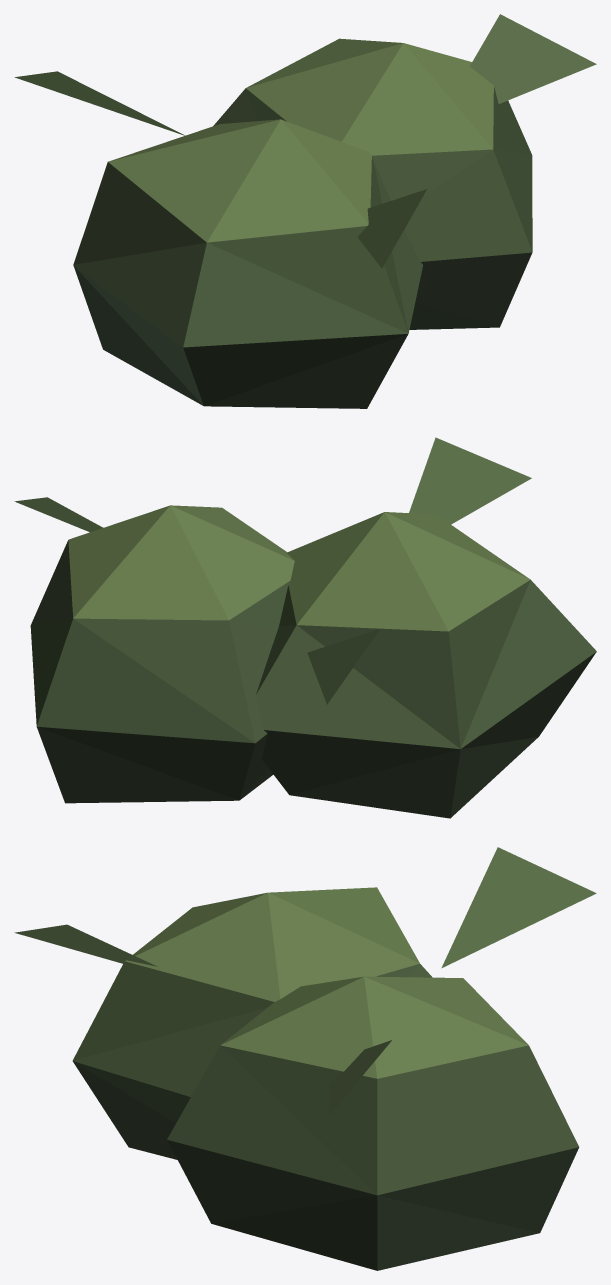
File: bush_broad_s.glb
3 renders of one model, top to bottom at view 1: azimuth 30°, elevation 25°; view 2: azimuth 150°, elevation 25°; view 3: azimuth 270°, elevation 25°, orthographic. The views are drawn at different scales.
Visible parts, largest first — view 1: Body_bush_broad_s.001; view 2: Body_bush_broad_s.001; view 3: Body_bush_broad_s.001.
Part boxes in pixels (x1,y1,x2,y2): Body_bush_broad_s.001: [14, 14, 596, 408]; Body_bush_broad_s.001: [14, 437, 596, 818]; Body_bush_broad_s.001: [14, 847, 596, 1270].
Bounding box in the file's own units: 0.7804 × 0.4125 × 0.7744.
